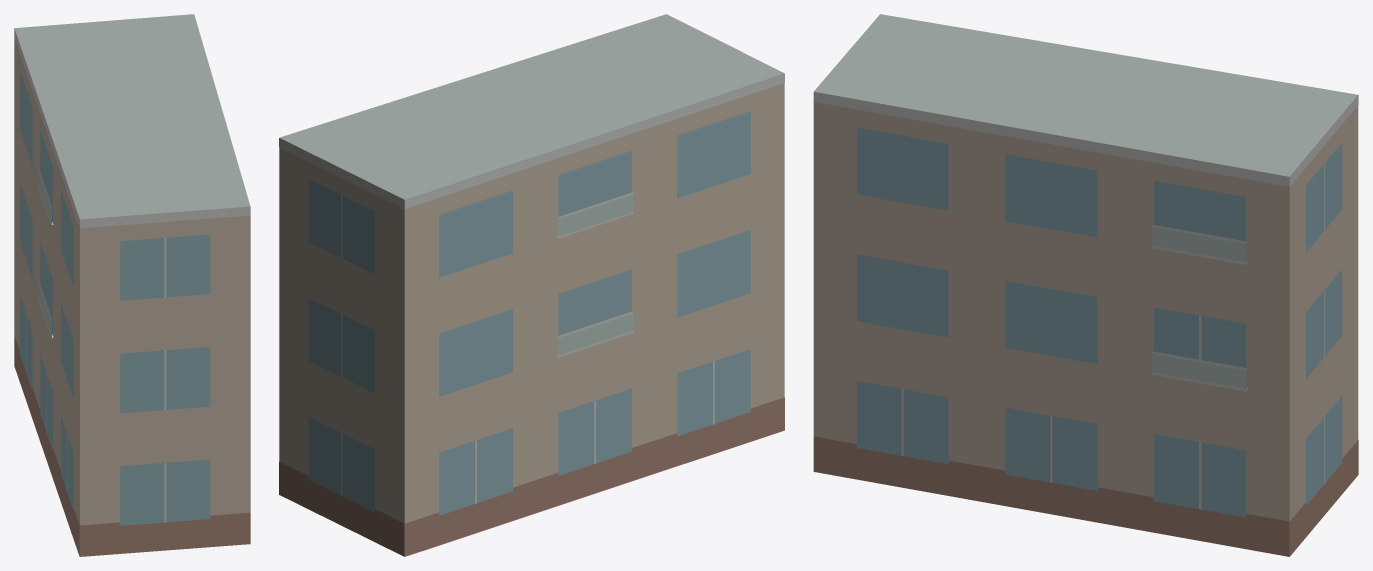
File: survey-upis-32974896.glb
3 views of the same model, side by side, from view 1: azimuth 30°, elevation 25°; view 2: azimuth 150°, elevation 25°; view 3: azimuth 270°, elevation 25° (orthographic). The views are drawn at different scales.
Visible parts, largest first — view 1: survey-upis-32974896.tmp; view 2: survey-upis-32974896.tmp; view 3: survey-upis-32974896.tmp.
Boxes of the visible parts, bbox=[...] form: survey-upis-32974896.tmp: bbox=[14, 14, 250, 556]; survey-upis-32974896.tmp: bbox=[279, 14, 784, 556]; survey-upis-32974896.tmp: bbox=[813, 14, 1358, 556].
Size of the model in its own units: 8.41 by 9.15 by 11.9.
